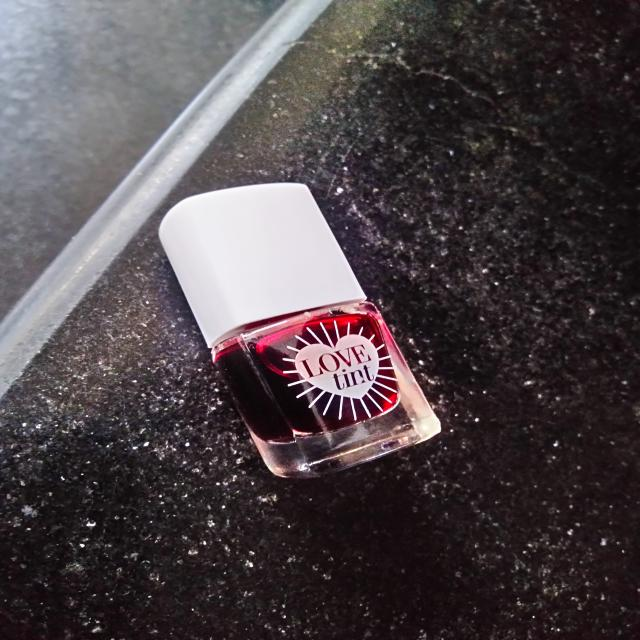Tint: (144, 189, 462, 489)
